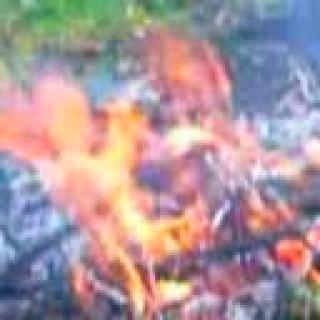fire: (16, 22, 320, 307)
